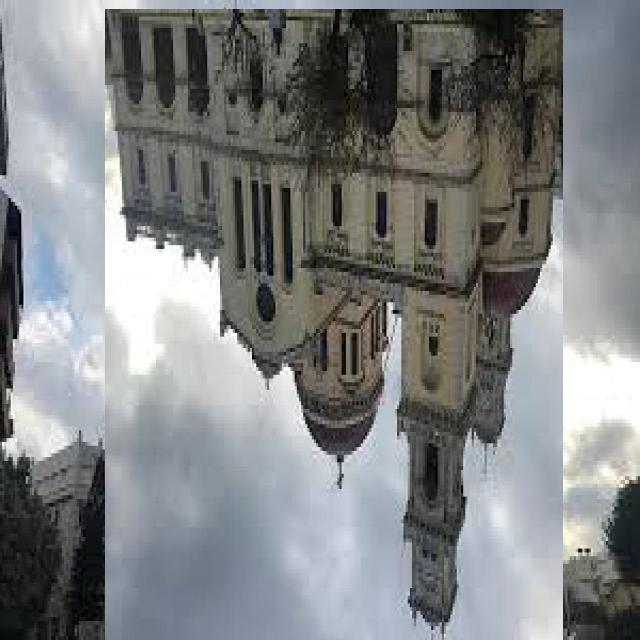Agios Minas: (106, 10, 564, 640)
